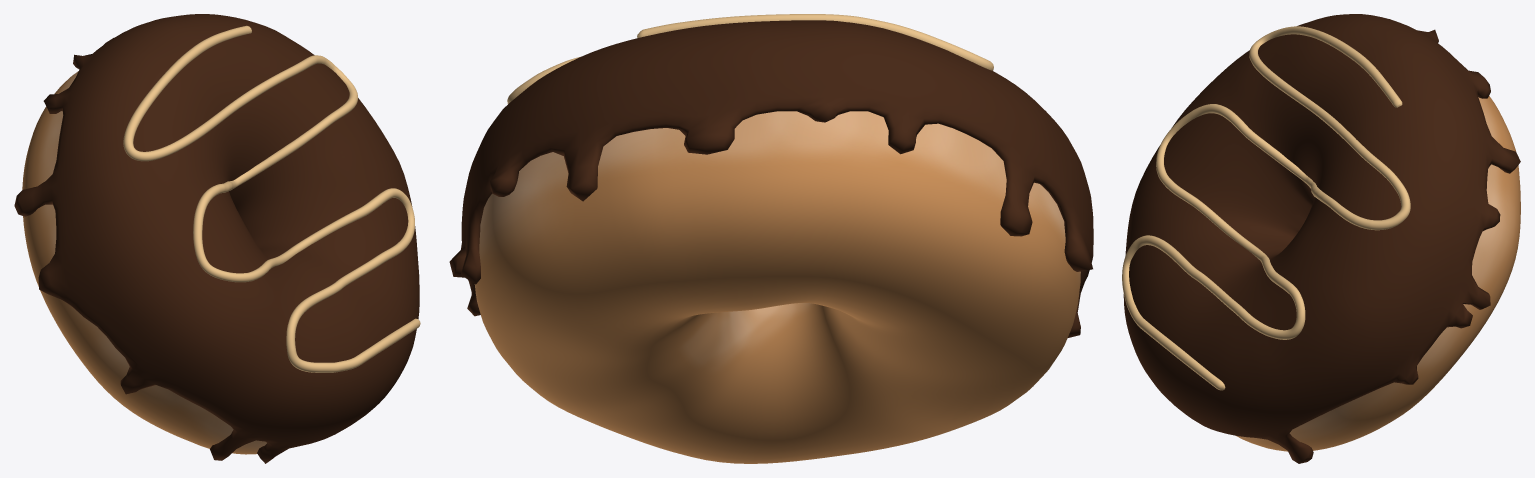
3 views of the same model, side by side, from view 1: azimuth 30°, elevation 25°; view 2: azimuth 150°, elevation 25°; view 3: azimuth 270°, elevation 25° (orthographic). The views are drawn at different scales.
Parts seen in each view (by area): view 1: Icing_low, Drizzle_low, Donut_low; view 2: Donut_low, Icing_low, Drizzle_low; view 3: Icing_low, Drizzle_low, Donut_low.
Part boxes in pixels (box(x1,y1,x2,y2)): Icing_low: box(14, 14, 419, 463); Drizzle_low: box(123, 25, 420, 372); Donut_low: box(22, 71, 266, 454); Donut_low: box(474, 111, 1080, 463); Icing_low: box(449, 20, 1093, 337); Drizzle_low: box(507, 14, 993, 103); Icing_low: box(1123, 14, 1520, 463); Drizzle_low: box(1122, 26, 1410, 390); Donut_low: box(1236, 96, 1520, 451).
Bounding box in the file's own units: 1.21 × 1.07 × 1.05.
